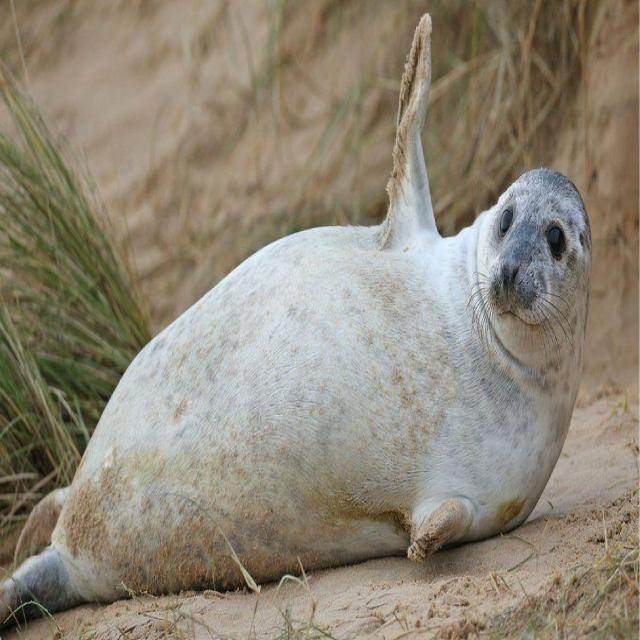WaterDog: (0, 166, 594, 640)
